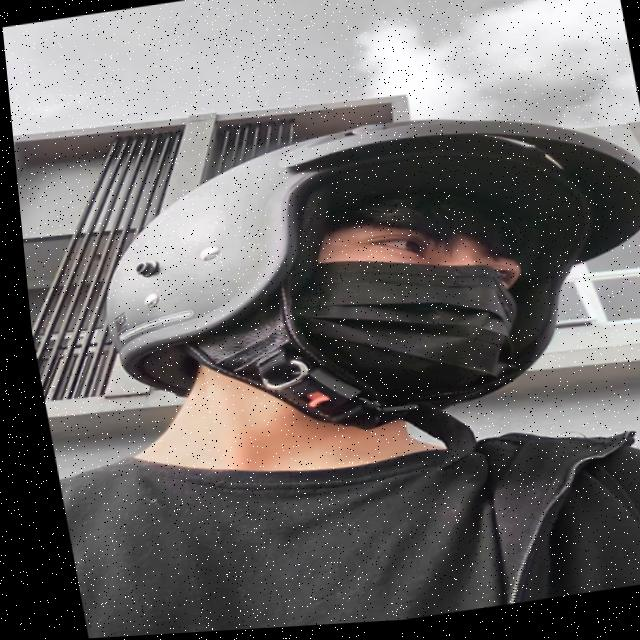helmet: (49, 80, 640, 474)
